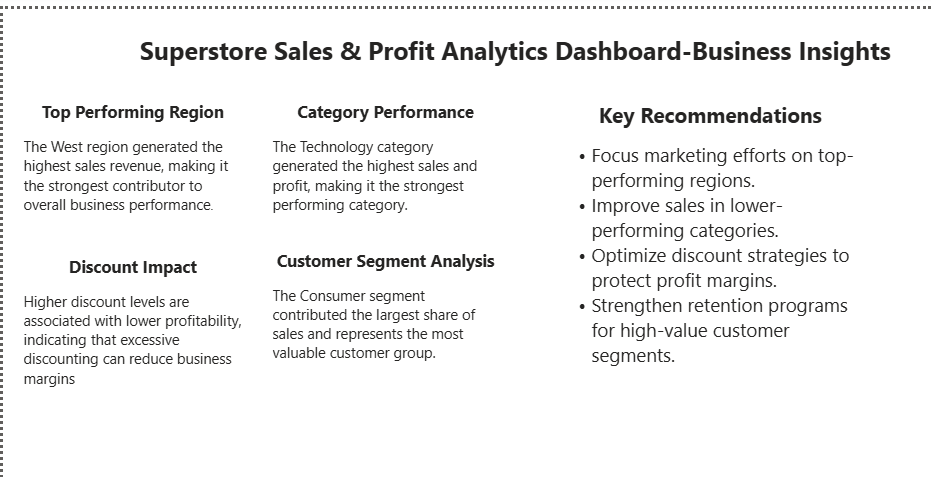

Layout of this report page (visuals, bound fields, positions):
{"tool":"powerbi","page":{"name":"Business Insights","canvas":[1280,720],"ordinal":1},"visuals":[{"type":"textbox","box":[148.1,25,1017.3,61.5],"z":0},{"type":"textbox","box":[21.2,111.5,290.4,180.8],"z":1},{"type":"textbox","box":[340.4,111.5,300,180.8],"z":2},{"type":"textbox","box":[21.2,309.6,290.4,211.5],"z":3},{"type":"textbox","box":[340.4,301.9,300,196.2],"z":4},{"type":"textbox","box":[713.5,111.5,386.5,367.3],"z":5}]}

Visuals, with their boxes on the page's 1280x720 design canvas (x1, y1, x2, y2). These are canvas units, not pixel positions in the 931x477 screenshot, which may show the page scaled, cropped or inside an application window:
textbox: (left=148, top=25, right=1165, bottom=86)
textbox: (left=21, top=112, right=312, bottom=292)
textbox: (left=340, top=112, right=640, bottom=292)
textbox: (left=21, top=310, right=312, bottom=521)
textbox: (left=340, top=302, right=640, bottom=498)
textbox: (left=714, top=112, right=1100, bottom=479)
